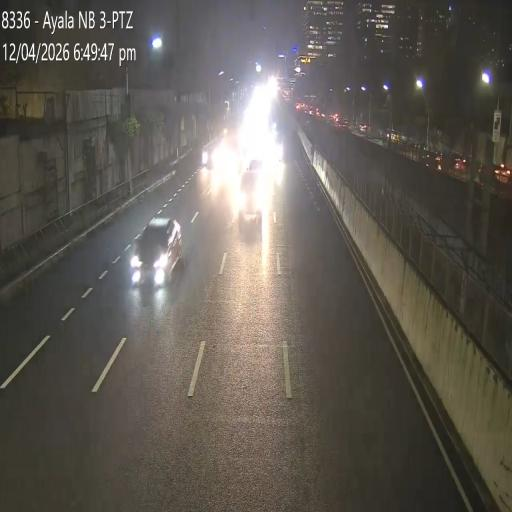Car: (129, 215, 182, 288), (238, 161, 265, 234), (200, 132, 228, 170)
